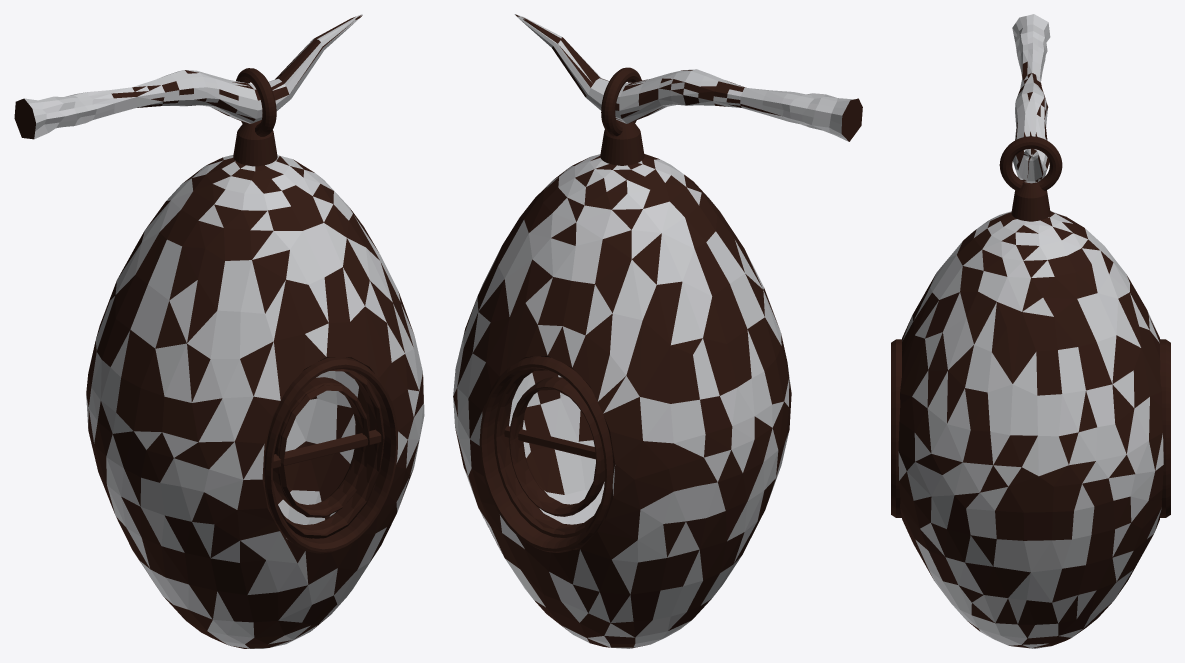
File: TreeHouseWindows.fbx
3 views of the same model, side by side, from view 1: azimuth 30°, elevation 25°; view 2: azimuth 150°, elevation 25°; view 3: azimuth 270°, elevation 25° (orthographic). The views are drawn at different scales.
Visible parts, largest first — view 1: TreehouseBody, Branch, Window.002, TreehouseConnceter, LwindowHinge, TreehouseHook; view 2: TreehouseBody, Branch, Window.003, TreehouseConnceter, TreehouseHook; view 3: TreehouseBody, Branch, TreehouseHook, TreehouseConnceter.
Part boxes in pixels (x1=…): TreehouseBody: x1=86, y1=155, x2=424, y2=648; Branch: x1=14, y1=14, x2=362, y2=139; Window.002: x1=273, y1=371, x2=383, y2=538; TreehouseConnceter: x1=233, y1=120, x2=277, y2=166; LwindowHinge: x1=273, y1=431, x2=381, y2=468; TreehouseHook: x1=236, y1=68, x2=276, y2=136; TreehouseBody: x1=453, y1=154, x2=791, y2=648; Branch: x1=514, y1=14, x2=862, y2=141; Window.003: x1=494, y1=368, x2=604, y2=537; TreehouseConnceter: x1=600, y1=119, x2=644, y2=165; TreehouseHook: x1=601, y1=67, x2=641, y2=136; TreehouseBody: x1=891, y1=211, x2=1170, y2=648; Branch: x1=1012, y1=14, x2=1050, y2=183; TreehouseHook: x1=999, y1=136, x2=1062, y2=190; TreehouseConnceter: x1=1011, y1=181, x2=1050, y2=221.
Size of the model in its own units: 2.54 by 3.87 by 1.85.
